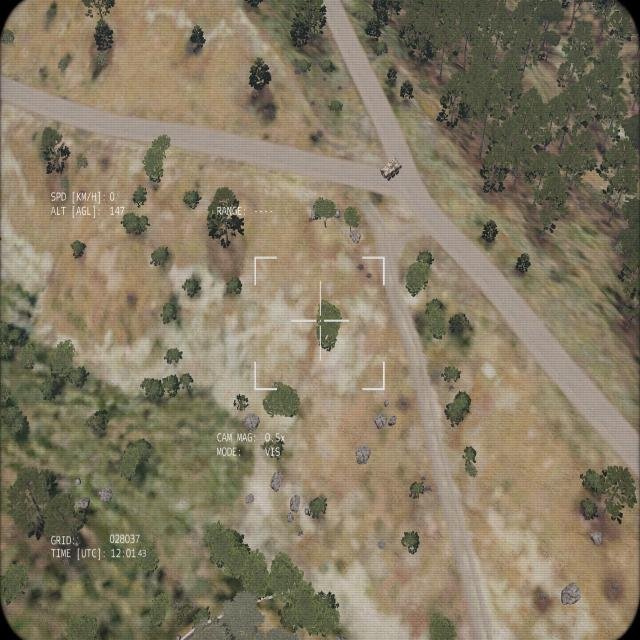apc: (380, 156, 401, 182)
